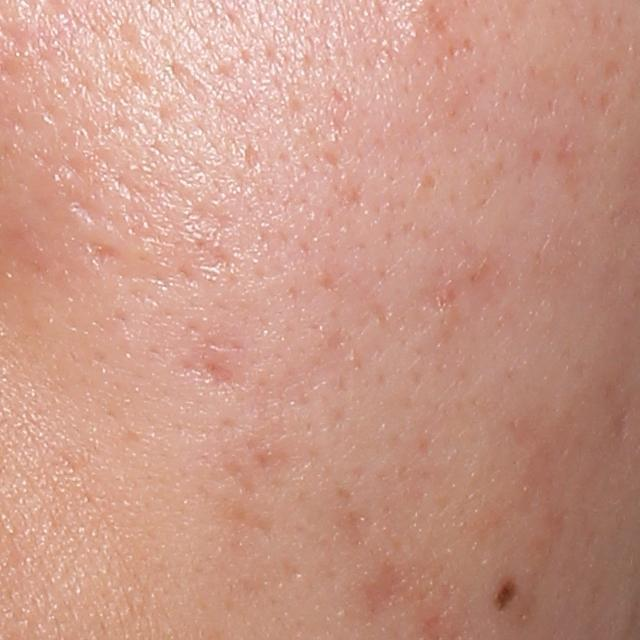atrophic_scar: (368, 568, 424, 612), (195, 357, 242, 395)
